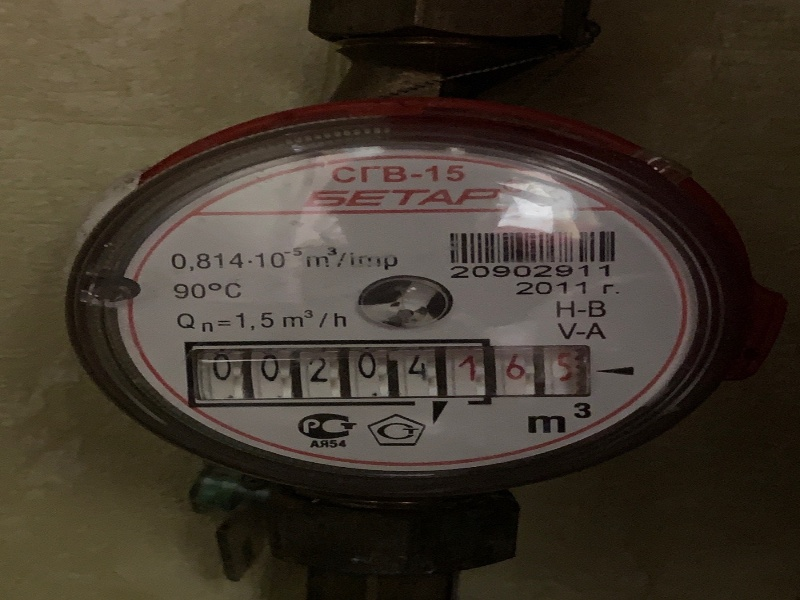meter: (178, 340, 587, 394)
